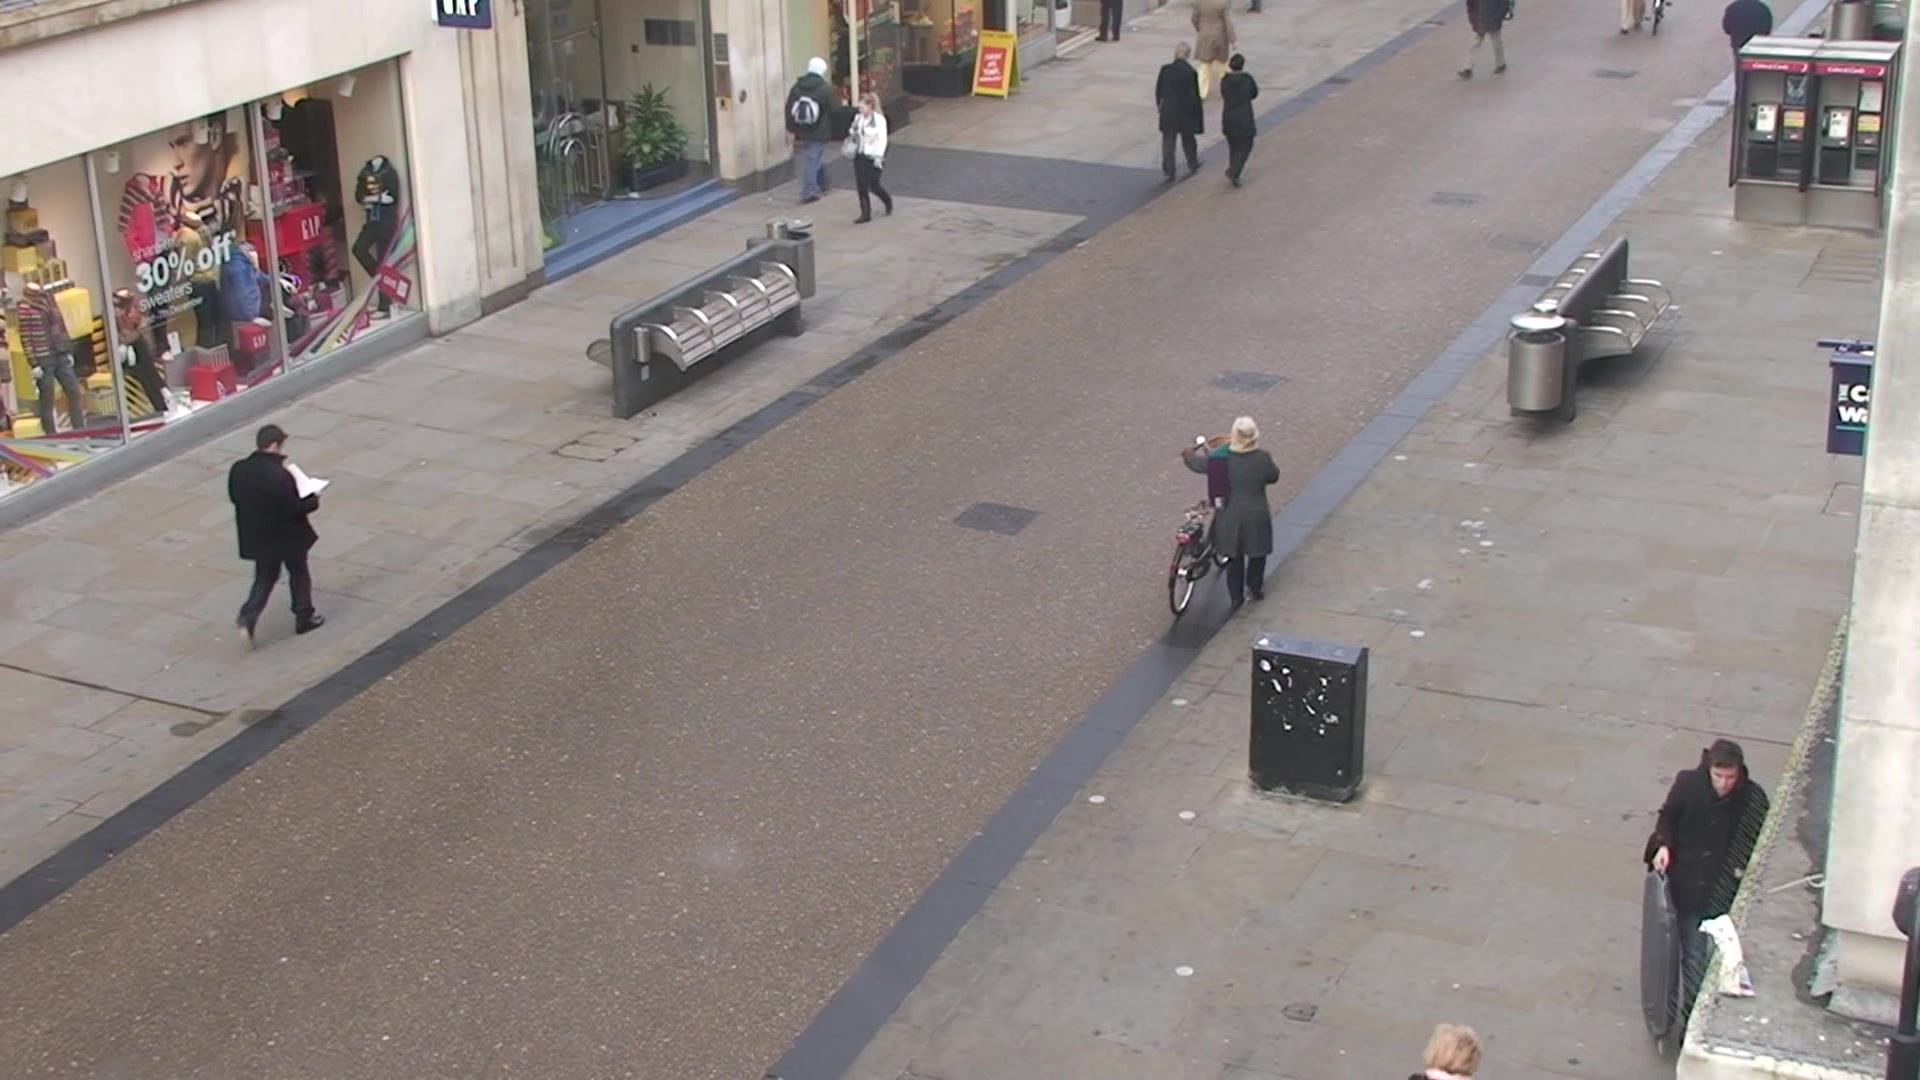person: (1646, 740, 1774, 1052), (229, 424, 328, 647), (1180, 413, 1279, 607), (841, 83, 900, 227), (787, 58, 843, 203), (1154, 40, 1209, 183), (1218, 51, 1261, 188)
